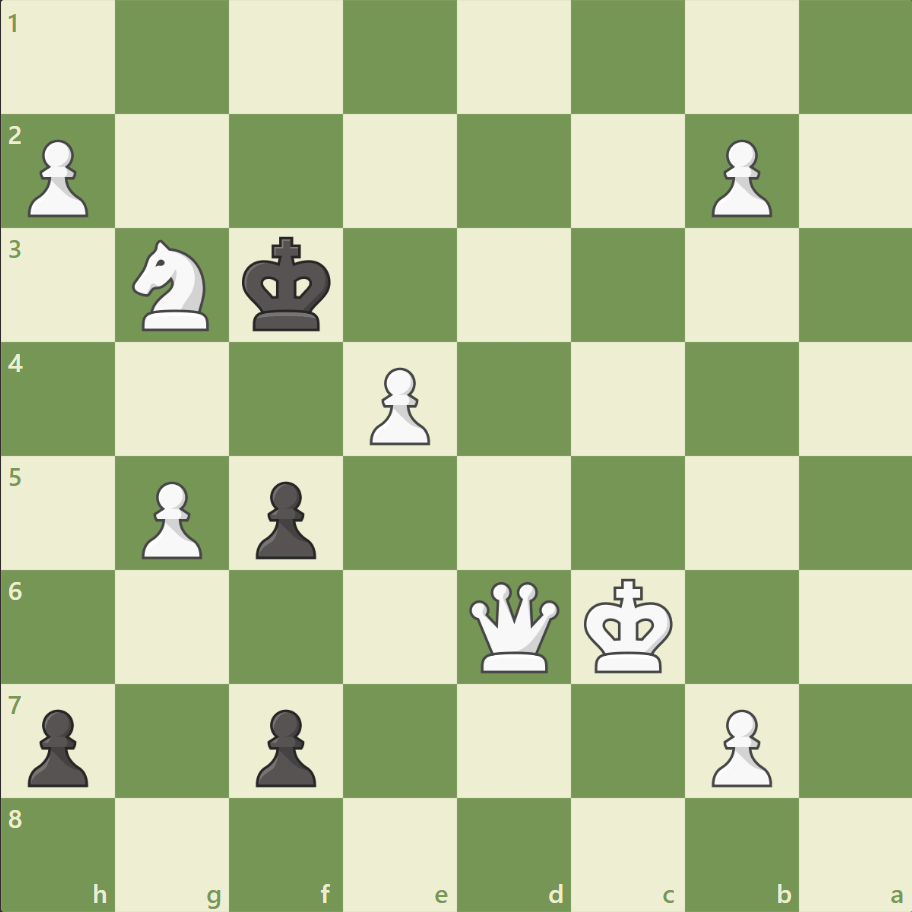K: (579, 571, 679, 679)
N: (124, 234, 222, 337)
P: (701, 700, 776, 791), (133, 473, 208, 564), (701, 132, 776, 223), (20, 132, 95, 223), (361, 359, 435, 450)
Q: (464, 576, 563, 676)
k: (238, 231, 338, 339)
p: (247, 700, 322, 791), (20, 700, 95, 791), (247, 473, 322, 564)
